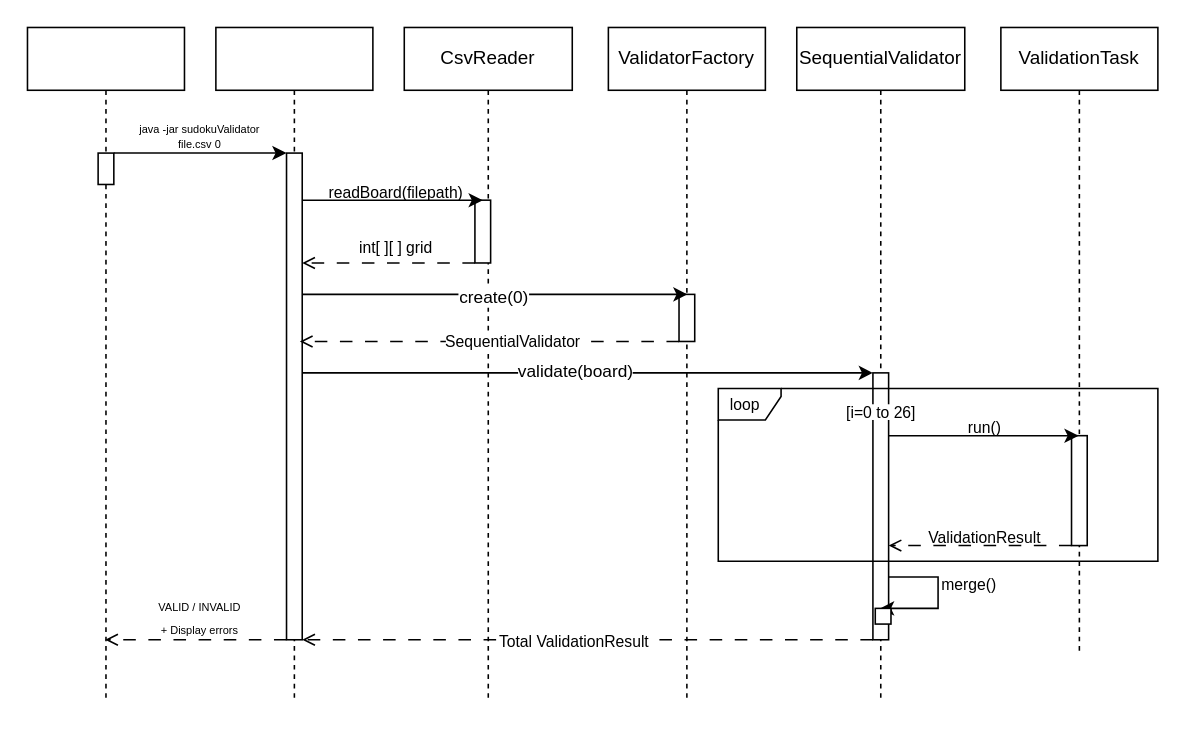
This 1185x730 diagram has some shape labels left out. Here are the shapes that lost their labels. From the top down, the box of each, then its label:
(26, 26, 184, 703): User
(214, 26, 373, 703): Main
